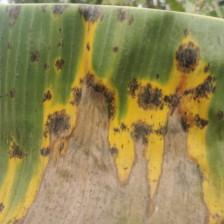pestalotiopsis: (0, 1, 224, 224)
